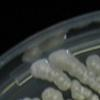white: (85, 53, 100, 69), (40, 86, 56, 100), (91, 59, 100, 74), (52, 89, 64, 100), (88, 94, 100, 100)
